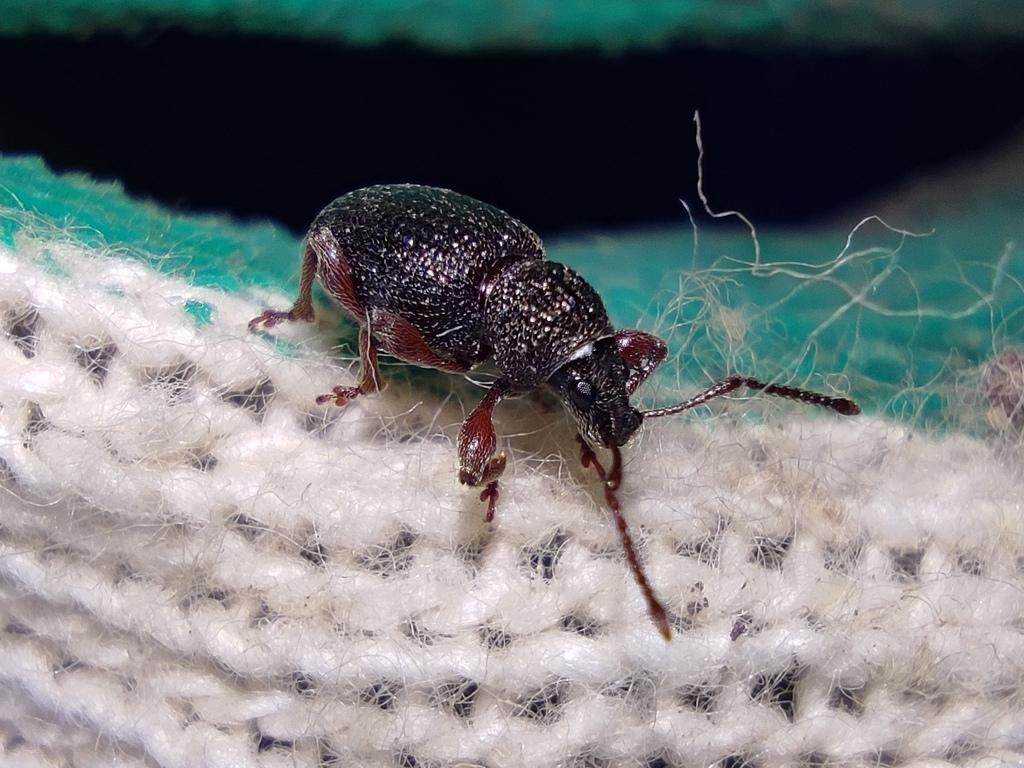weevils: (230, 139, 909, 708)
